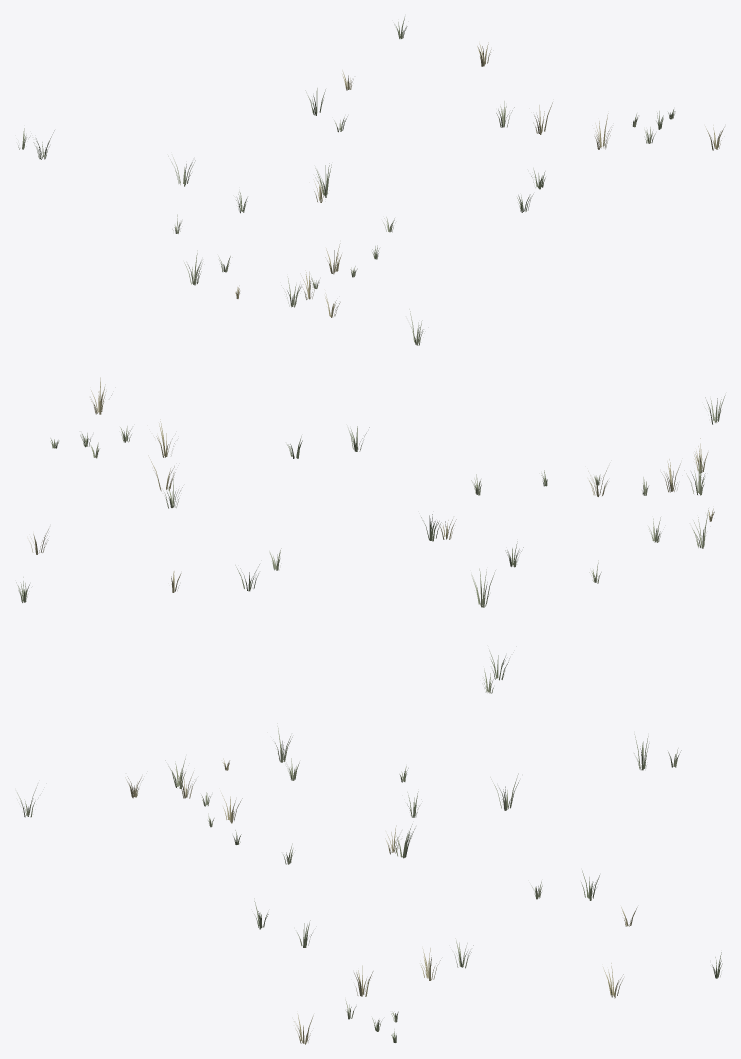
File: AE_Grass_1_1.fbx
The picture shows the model from 3 angles, top to bottom: view 1: azimuth 30°, elevation 25°; view 2: azimuth 150°, elevation 25°; view 3: azimuth 270°, elevation 25°; orthographic projection. The views are drawn at different scales.
Parts seen in each view (by area): view 1: AE_Grass_1_1_LOD0; view 2: AE_Grass_1_1_LOD0; view 3: AE_Grass_1_1_LOD0.
Part boxes in pixels (x1,y1,x2,y2): AE_Grass_1_1_LOD0: [18, 17, 724, 345]; AE_Grass_1_1_LOD0: [16, 377, 725, 693]; AE_Grass_1_1_LOD0: [17, 723, 722, 1044].
Size of what is drawn, in the model's own units: 1777 by 108 by 1839.
